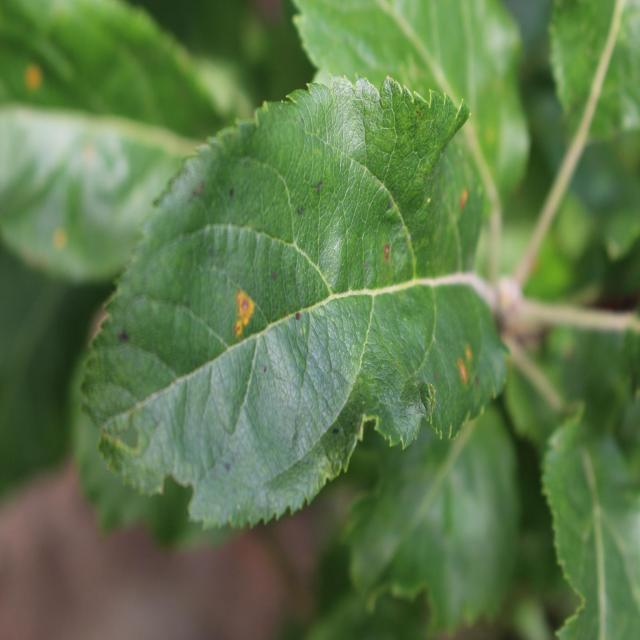Rust: (47, 225, 75, 266), (233, 291, 257, 337), (23, 64, 49, 96), (454, 358, 472, 399), (460, 182, 473, 216), (464, 340, 476, 371)
